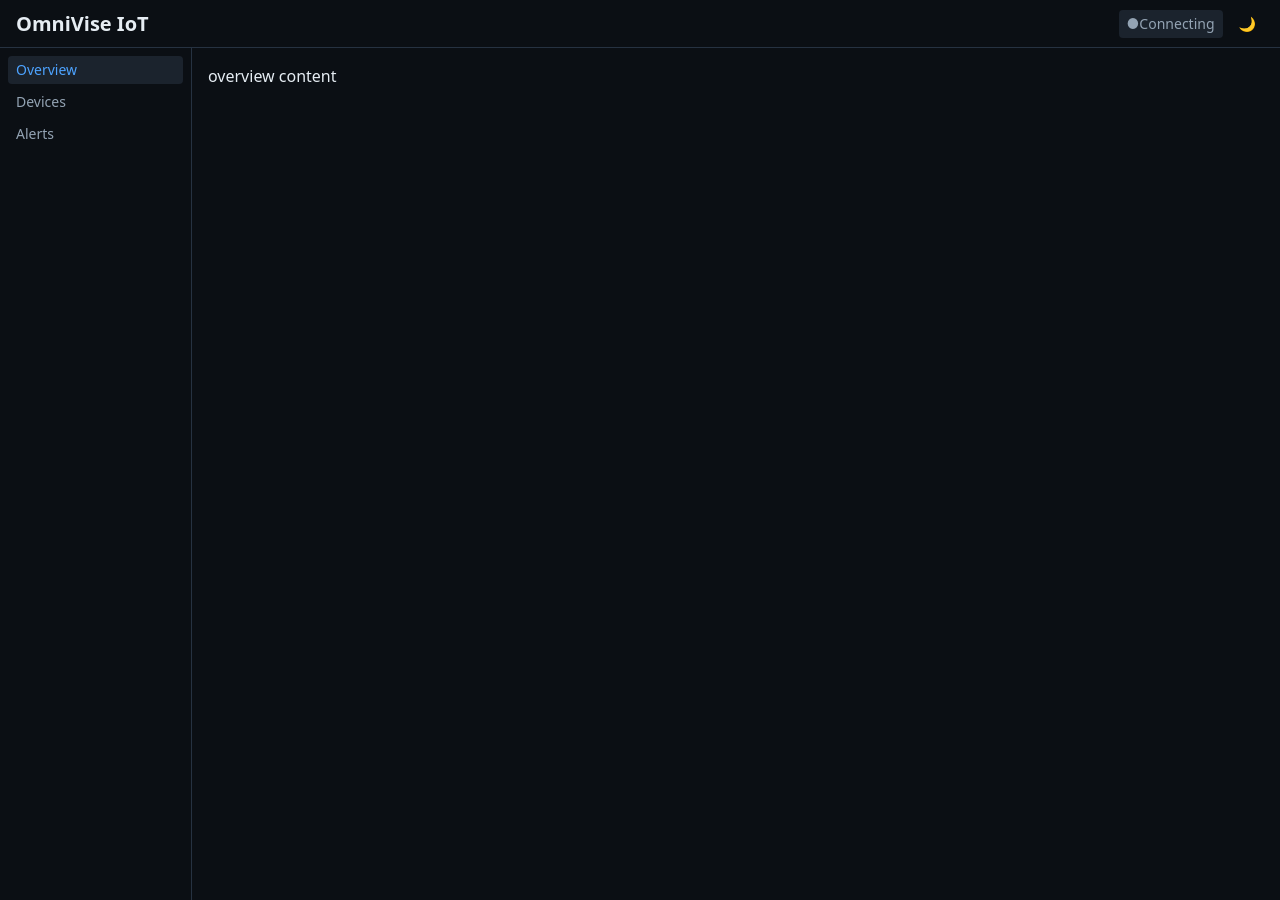
Test: AppShell › keeps a single WebSocket open across in-app route navigation
Click the link "Alerts": (35, 134) [16, 124, 54, 143]
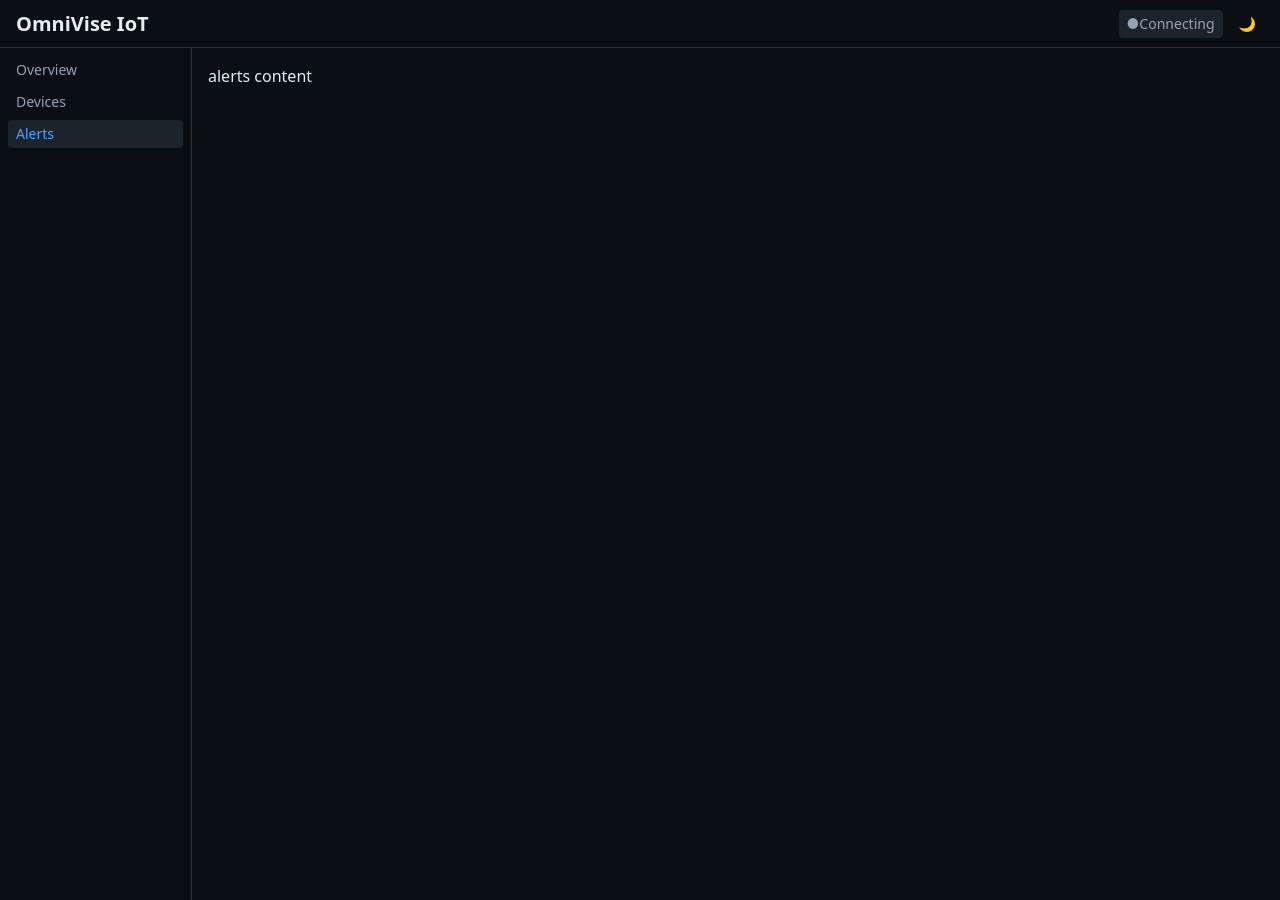
Expected: the text "alerts content" is shown, [208, 65, 312, 87]
